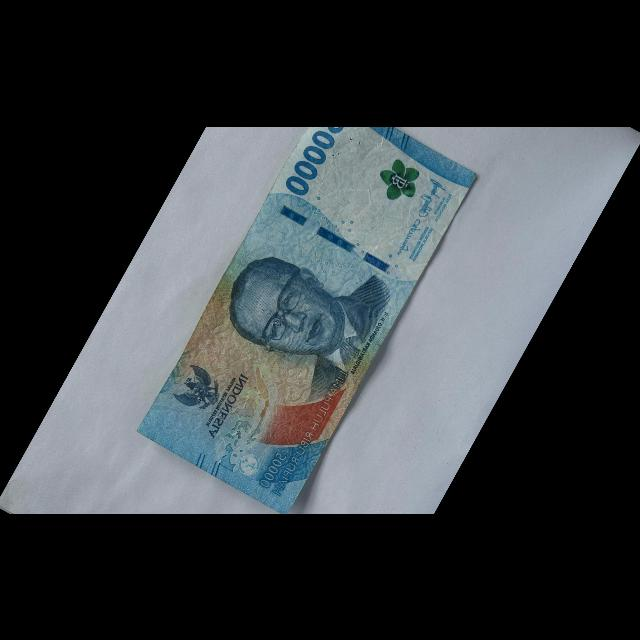Palsu-50k: (132, 88, 480, 518)
Tinta-Palsu-50k: (370, 153, 426, 209)
